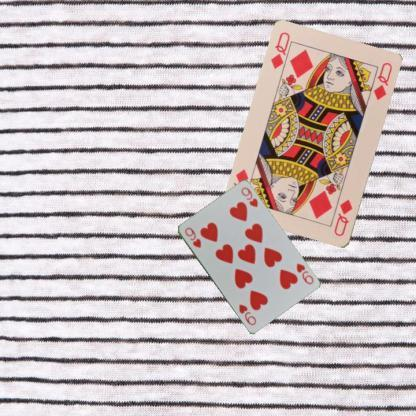9h: (293, 260, 315, 286), (182, 224, 202, 249)
Qd: (268, 30, 294, 76), (332, 196, 354, 238)
